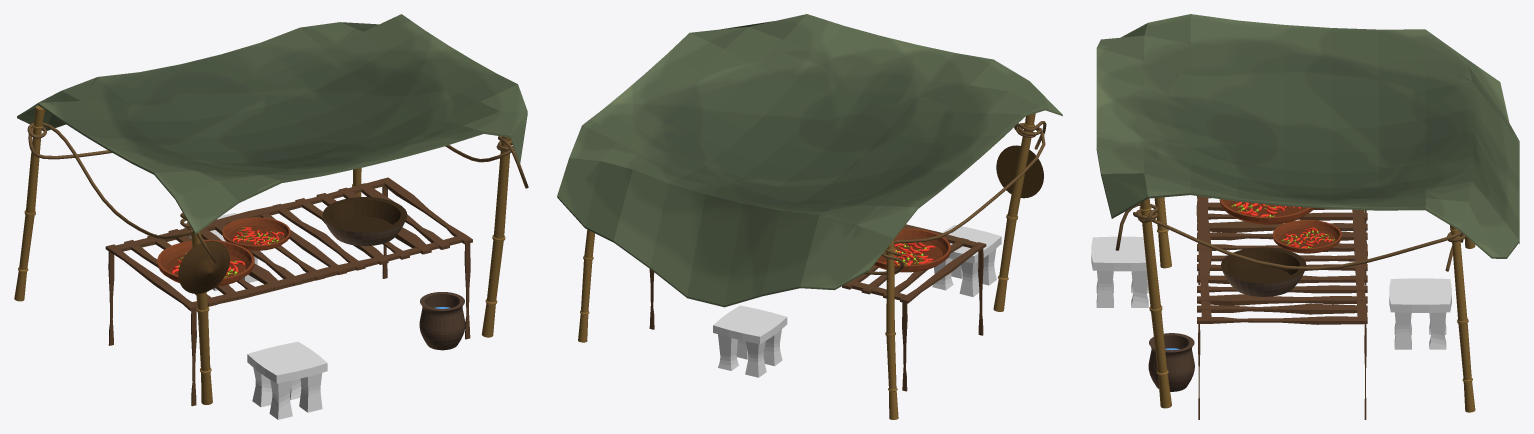
Rendered from pasar .fbx.
3 renders of one model, left to right at view 1: azimuth 30°, elevation 25°; view 2: azimuth 150°, elevation 25°; view 3: azimuth 270°, elevation 25°, orthographic. The views are drawn at different scales.
Parts seen in each view (by area): view 1: Plane, meja, Cube, wadah kosong, Cylinder.006, NurbsPath, Cylinder.004, Cone, Cylinder.002, nampan cabe, nampan cabe.001, Cylinder; view 2: Plane, Cube.002, meja, Cube, nampan cabe, Cylinder, Cylinder.002, Cone, NurbsPath, Cylinder.005; view 3: Plane, meja, Cube.002, wadah kosong, Cube, Cylinder.004, NurbsPath, nampan cabe.001, Cylinder.006, Cylinder.005, nampan cabe, Cylinder.
Part boxes in pixels (<box>): Plane: <box>17,14,527,234</box>; meja: <box>105,177,472,406</box>; Cube: <box>247,341,327,419</box>; wadah kosong: <box>322,197,407,245</box>; Cylinder.006: <box>419,292,465,350</box>; NurbsPath: <box>27,122,528,263</box>; Cylinder.004: <box>481,136,511,337</box>; Cone: <box>178,240,229,293</box>; Cylinder.002: <box>14,105,45,301</box>; nampan cabe: <box>157,239,254,286</box>; nampan cabe.001: <box>222,217,290,250</box>; Cylinder: <box>191,231,212,404</box>; Plane: <box>557,14,1062,307</box>; Cube.002: <box>713,305,787,377</box>; meja: <box>649,224,986,391</box>; Cube: <box>932,225,1001,296</box>; nampan cabe: <box>874,228,950,272</box>; Cylinder: <box>993,113,1035,311</box>; Cylinder.002: <box>885,239,898,419</box>; Cone: <box>996,145,1043,198</box>; NurbsPath: <box>864,121,1046,274</box>; Cylinder.005: <box>578,229,594,342</box>; Plane: <box>1096,14,1519,258</box>; meja: <box>1196,196,1367,419</box>; Cube.002: <box>1389,278,1451,349</box>; wadah kosong: <box>1221,247,1306,296</box>; Cube: <box>1091,236,1148,307</box>; Cylinder.004: <box>1139,198,1171,408</box>; NurbsPath: <box>1115,203,1465,271</box>; nampan cabe.001: <box>1272,220,1341,253</box>; Cylinder.006: <box>1148,333,1194,391</box>; Cylinder.005: <box>1450,226,1475,412</box>; nampan cabe: <box>1219,199,1314,224</box>; Cylinder: <box>1154,197,1171,268</box>.
Bounding box in the file's own units: 481 × 316 × 482.
Materials: 9 (8 with a texture image).
